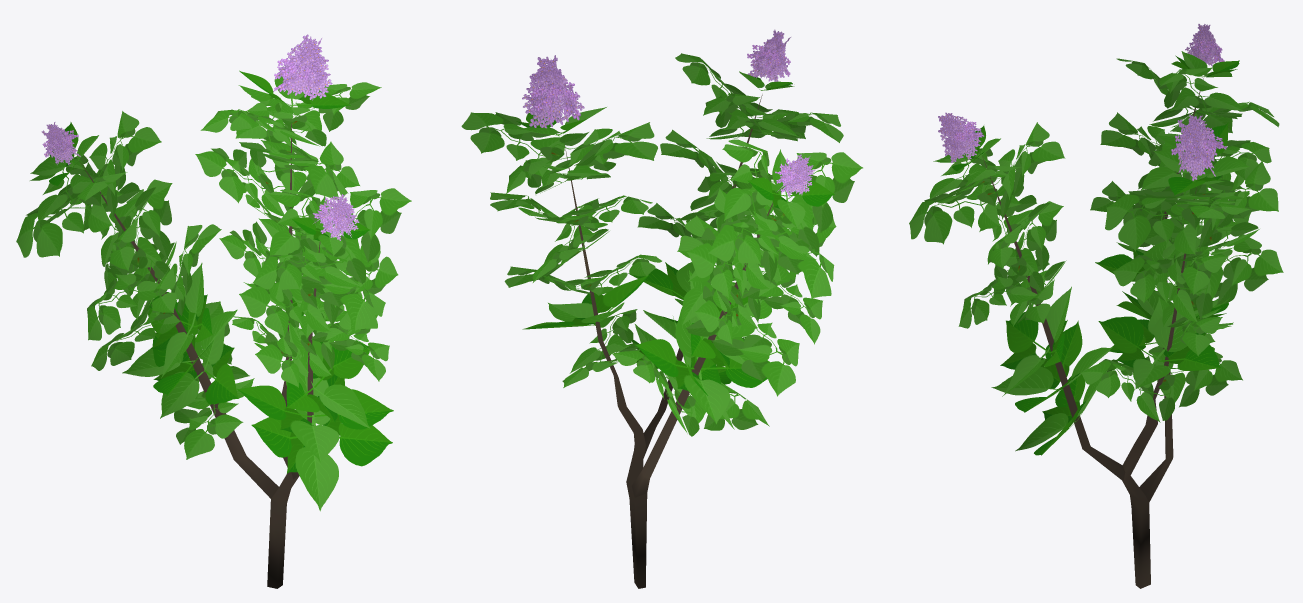
Rendered from PT_Lilac_03.fbx.
3 views of the same model, side by side, from view 1: azimuth 30°, elevation 25°; view 2: azimuth 150°, elevation 25°; view 3: azimuth 270°, elevation 25° (orthographic). The views are drawn at different scales.
Parts seen in each view (by area): view 1: PT_Lilac_03_LOD0; view 2: PT_Lilac_03_LOD0; view 3: PT_Lilac_03_LOD0.
Part boxes in pixels (box(x1,y1,x2,y2)): PT_Lilac_03_LOD0: box(16, 34, 411, 588); PT_Lilac_03_LOD0: box(461, 29, 862, 588); PT_Lilac_03_LOD0: box(909, 24, 1283, 588).
Size of what is drawn, in the model's own units: 182 by 252 by 172.
